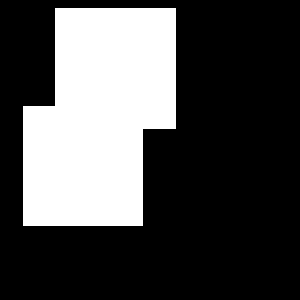circle: (55, 8, 176, 129), (23, 106, 143, 226)
rectangle: (81, 30, 117, 66)
